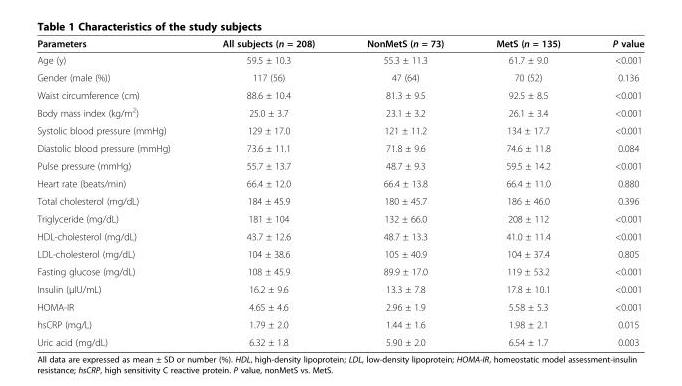table: (36, 37, 643, 347)
table column: (36, 37, 195, 347), (195, 37, 340, 347), (340, 37, 469, 347), (469, 37, 585, 347), (585, 37, 643, 347)
table column header: (36, 37, 643, 51)
table row: (36, 102, 643, 121), (36, 68, 643, 86), (36, 121, 643, 139), (36, 156, 643, 174), (36, 191, 643, 209), (36, 209, 643, 227), (36, 244, 643, 262), (36, 279, 643, 297), (36, 297, 643, 315), (36, 315, 643, 333), (36, 51, 643, 68), (36, 139, 643, 156), (36, 174, 643, 191), (36, 227, 643, 244), (36, 262, 643, 279), (36, 86, 643, 102), (36, 37, 643, 51), (36, 333, 643, 347)
